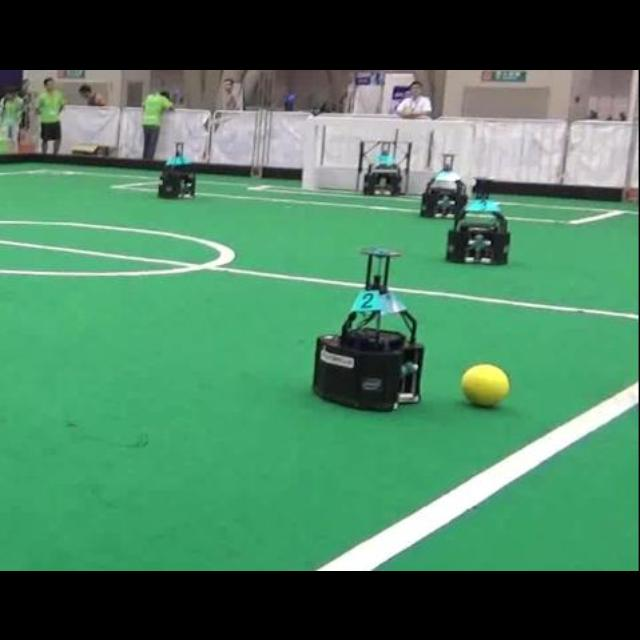ball: (461, 363, 509, 404)
goal: (301, 118, 319, 188)
robot: (312, 246, 424, 410), (446, 178, 510, 263), (356, 139, 411, 195), (420, 153, 468, 216), (159, 142, 195, 197)
